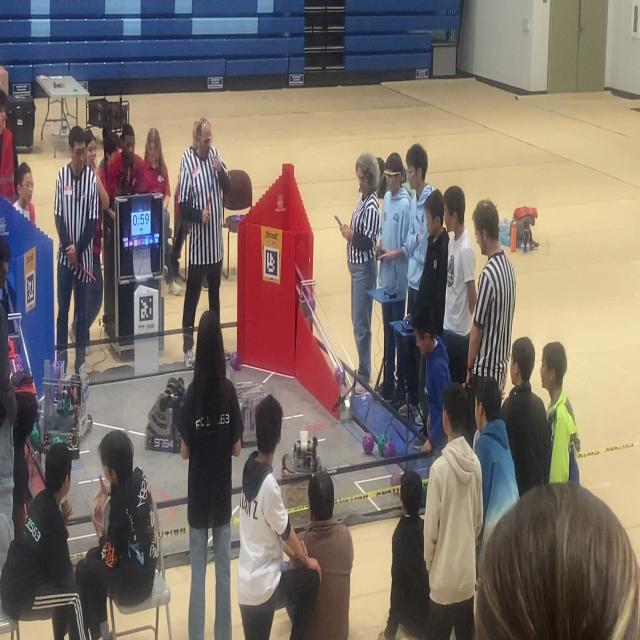artifact_green: (29, 425, 39, 446), (378, 434, 388, 454), (384, 441, 395, 458), (421, 485, 426, 507), (52, 437, 62, 444)
artifact_purple: (362, 433, 375, 455), (383, 440, 395, 459), (230, 352, 241, 371), (334, 366, 344, 386), (390, 471, 402, 487), (14, 354, 23, 372), (307, 293, 315, 311), (404, 315, 411, 330), (178, 399, 183, 409)
